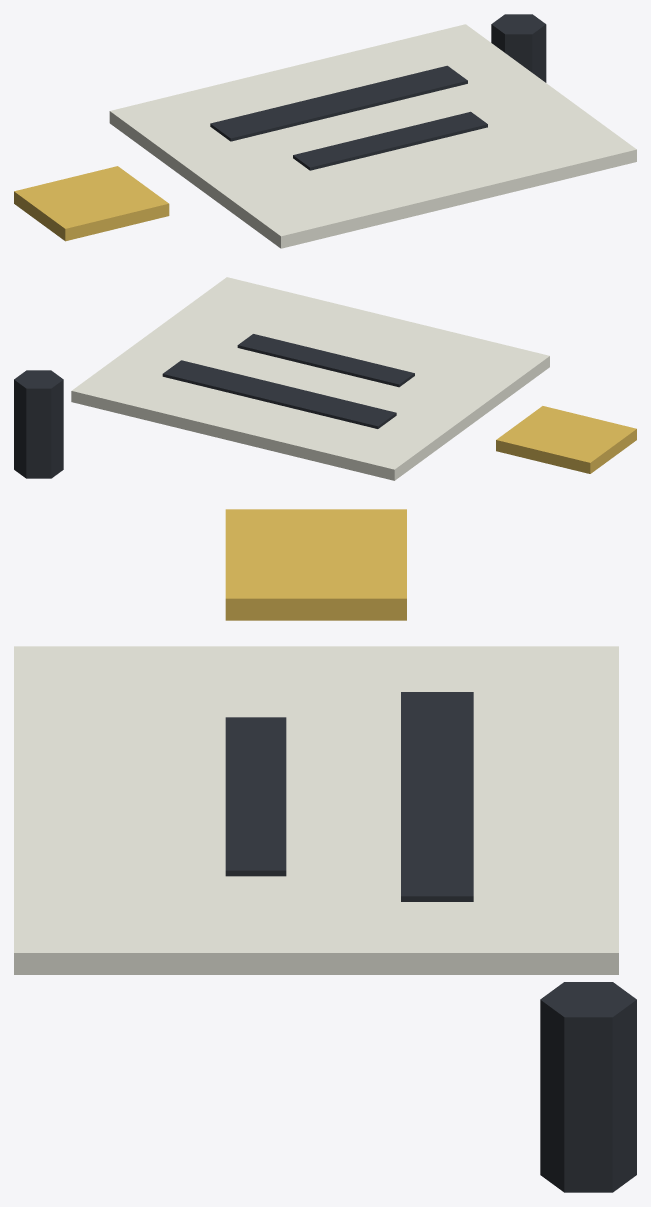
Rendered from prop_keycard_details.glb.
3 renders of one model, top to bottom at view 1: azimuth 30°, elevation 25°; view 2: azimuth 150°, elevation 25°; view 3: azimuth 270°, elevation 25°, orthographic. The views are drawn at different scales.
Visible parts, largest first — view 1: prop_keycard_details; view 2: prop_keycard_details; view 3: prop_keycard_details.
Part boxes in pixels (box(x1,y1,x2,y2)): prop_keycard_details: box(14, 14, 636, 248); prop_keycard_details: box(14, 277, 636, 480); prop_keycard_details: box(14, 509, 636, 1192).
Bounding box in the file's own units: 0.1944 × 0.0345 × 0.103.
1 material, 1 textured.
